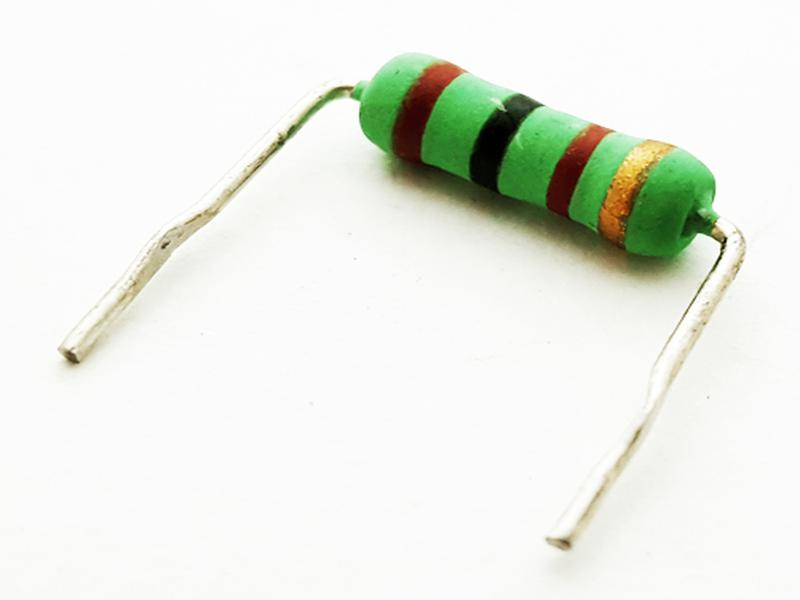resistor: (310, 34, 761, 299)
